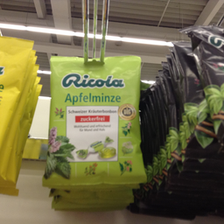candy: (51, 60, 143, 183), (176, 31, 224, 158)
